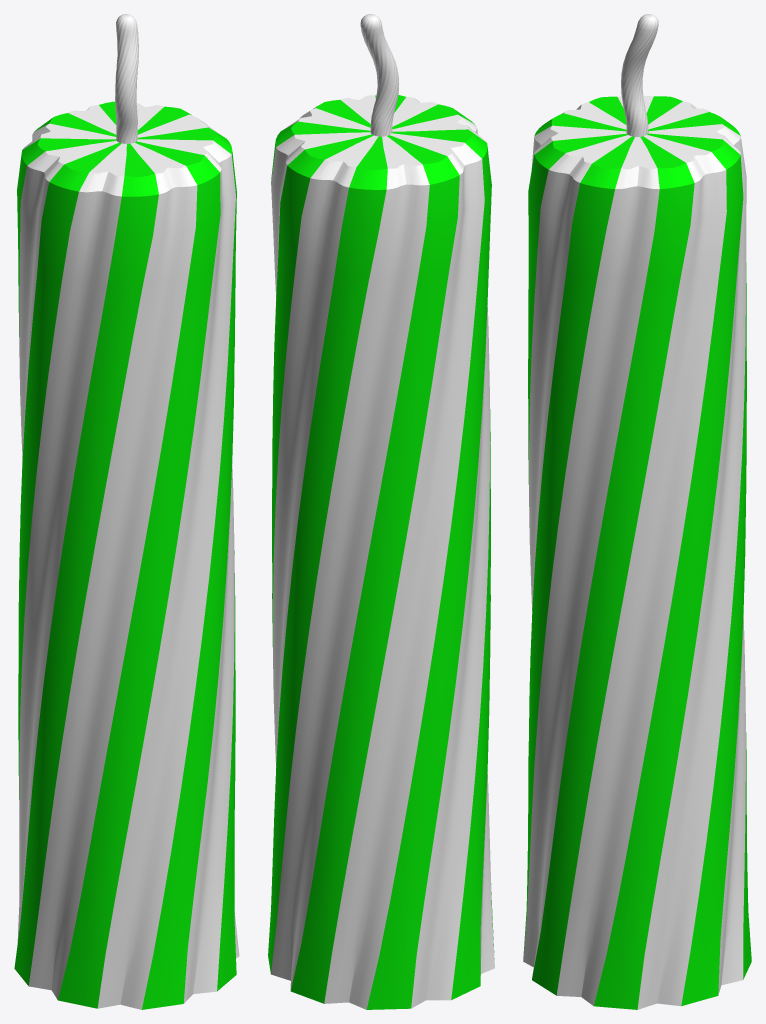
File: Candle.obj
3 renders of one model, left to right at view 1: azimuth 30°, elevation 25°; view 2: azimuth 150°, elevation 25°; view 3: azimuth 270°, elevation 25°, orthographic.
Parts seen in each view (by area): view 1: Candle2_Circle.008, Fuse2_Circle.007; view 2: Candle2_Circle.008, Fuse2_Circle.007; view 3: Candle2_Circle.008, Fuse2_Circle.007.
Boxes of the visible parts, <box> form: Candle2_Circle.008: <box>14,101,239,1009</box>; Fuse2_Circle.007: <box>115,14,138,143</box>; Candle2_Circle.008: <box>268,95,494,1009</box>; Fuse2_Circle.007: <box>360,14,399,136</box>; Candle2_Circle.008: <box>523,96,751,1009</box>; Fuse2_Circle.007: <box>621,14,658,136</box>.
Size of the model in its own units: 0.114 by 0.5215 by 0.114.
